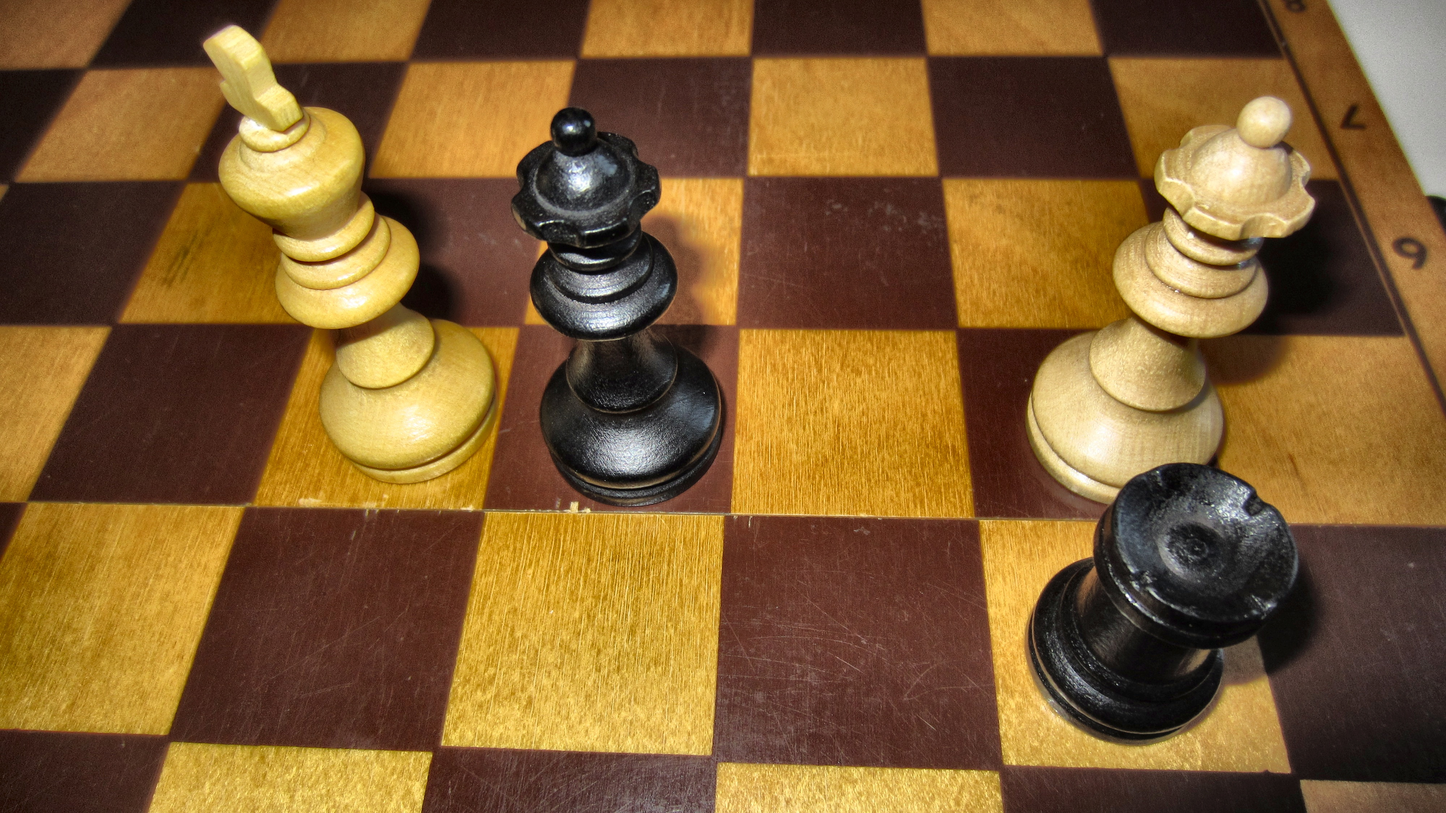black-queen: (510, 105, 726, 508)
black-rook: (1023, 462, 1304, 748)
white-king: (197, 22, 502, 487)
white-queen: (1022, 97, 1318, 507)
